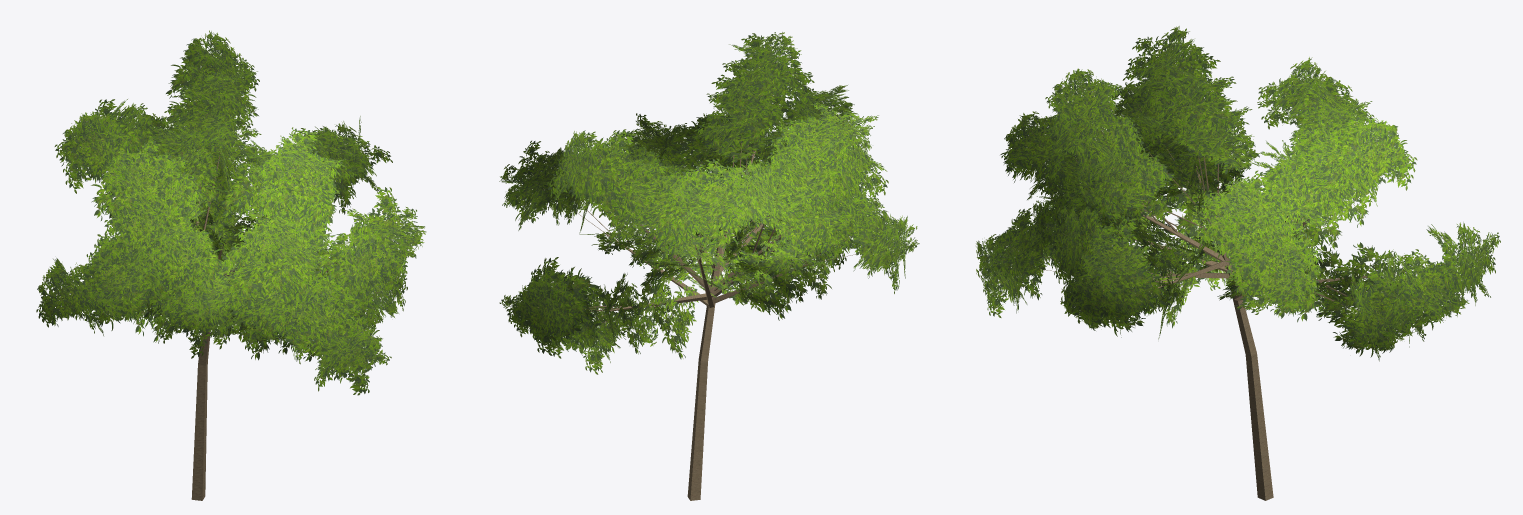
The model's file is Especie1_LOD4.fbx.
3 renders of one model, left to right at view 1: azimuth 30°, elevation 25°; view 2: azimuth 150°, elevation 25°; view 3: azimuth 270°, elevation 25°, orthographic. The views are drawn at different scales.
Visible parts, largest first — view 1: FolhasLOD4, Especie1LOD4; view 2: FolhasLOD4, Especie1LOD4, GalhosLOD4; view 3: FolhasLOD4, Especie1LOD4, GalhosLOD4.
Part boxes in pixels (x1=…): FolhasLOD4: x1=36, y1=30, x2=426, y2=395; Especie1LOD4: x1=191, y1=213, x2=327, y2=500; FolhasLOD4: x1=499, y1=32, x2=919, y2=374; Especie1LOD4: x1=606, y1=151, x2=810, y2=500; GalhosLOD4: x1=538, y1=47, x2=865, y2=323; FolhasLOD4: x1=976, y1=26, x2=1500, y2=361; Especie1LOD4: x1=1119, y1=160, x2=1384, y2=500; GalhosLOD4: x1=1014, y1=47, x2=1444, y2=320.
Size of the model in its own units: 30.98 by 30.67 by 34.57.
2 materials, 2 textured.
